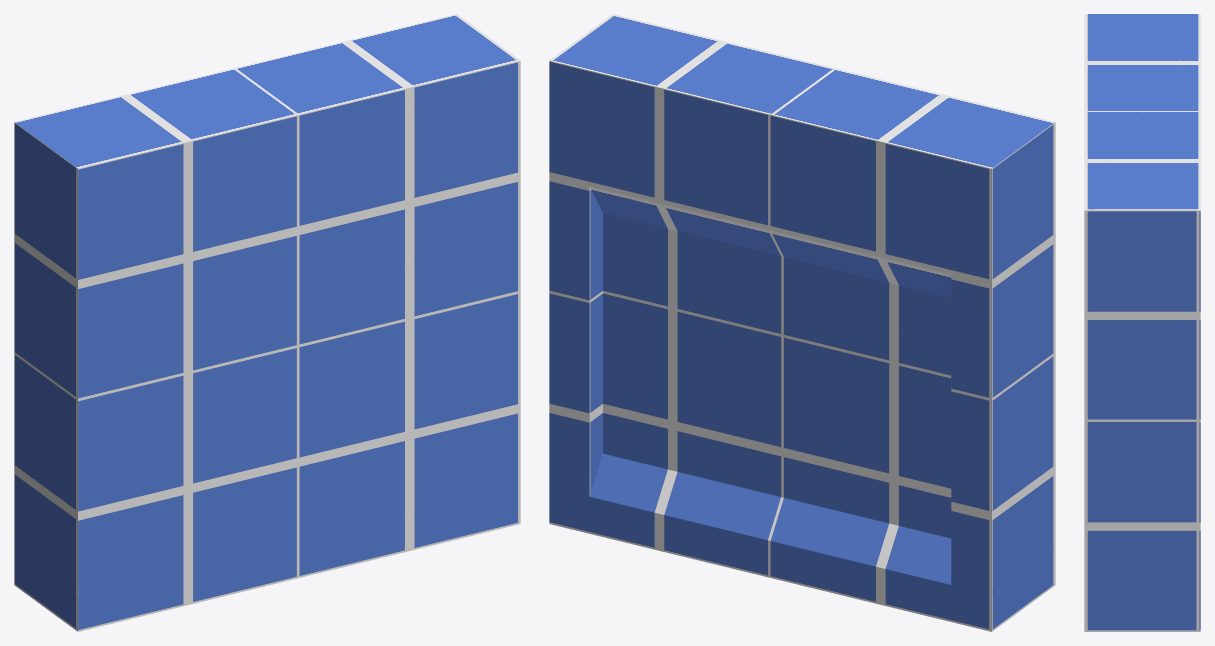
The model's file is M_Wall.FBX.
The picture shows the model from 3 angles, left to right: view 1: azimuth 30°, elevation 25°; view 2: azimuth 150°, elevation 25°; view 3: azimuth 270°, elevation 25°; orthographic projection. The views are drawn at different scales.
Visible parts, largest first — view 1: M_Wall; view 2: M_Wall; view 3: M_Wall.
Part boxes in pixels (x1,y1,x2,y2): M_Wall: (14, 14, 520, 631); M_Wall: (549, 14, 1055, 631); M_Wall: (1084, 14, 1200, 631).
Size of the model in its own units: 400 by 400 by 100.
